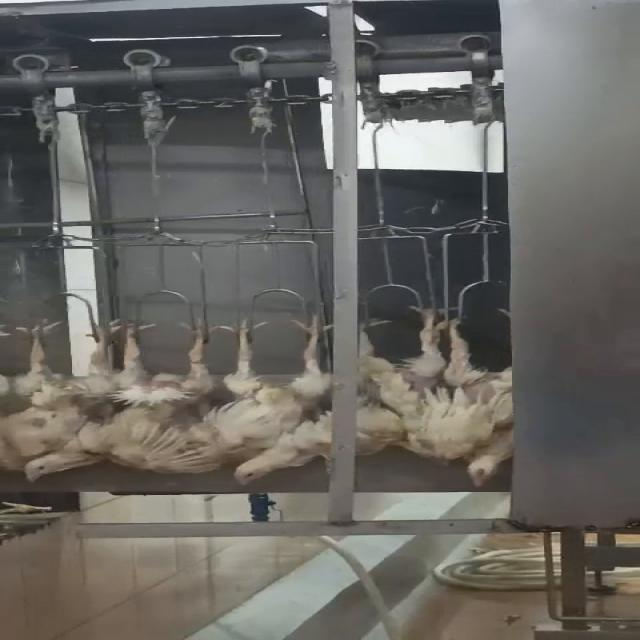chicken: (0, 313, 131, 488), (213, 310, 338, 488), (118, 310, 214, 479), (357, 303, 459, 462), (441, 304, 517, 488)
